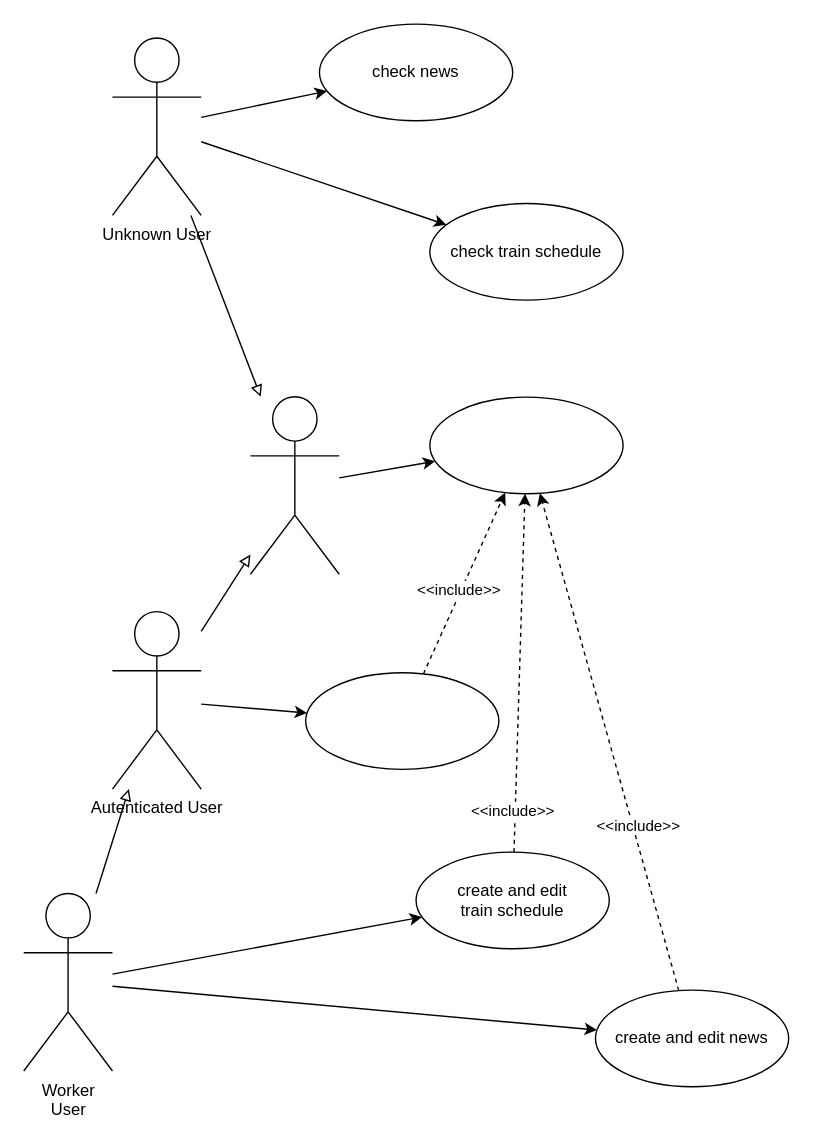
This 814x1145 diagram has some shape labels left out. Here are the shapes that lost their labels. From the top down, the centre of each, then its label:
At [525,445]: "Authenticate".
At [294,484]: "User".
At [401,720]: "Buy tickets".
